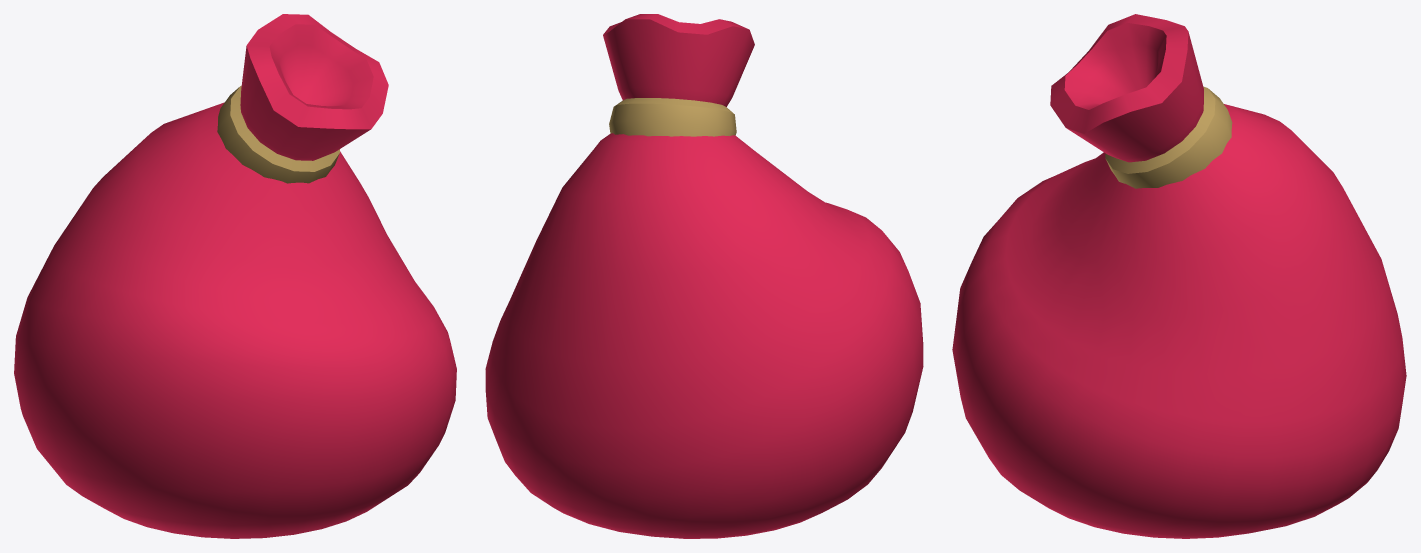
Rendered from sackA.gltf.glb.
The picture shows the model from 3 angles, left to right: view 1: azimuth 30°, elevation 25°; view 2: azimuth 150°, elevation 25°; view 3: azimuth 270°, elevation 25°; orthographic projection. The views are drawn at different scales.
Parts seen in each view (by area): view 1: sackA; view 2: sackA; view 3: sackA.
Boxes of the visible parts, x1=… form: sackA: x1=14, y1=14, x2=456, y2=538; sackA: x1=485, y1=14, x2=923, y2=538; sackA: x1=952, y1=14, x2=1406, y2=538.
Size of the model in its own units: 0.6921 by 0.7844 by 0.6832.
